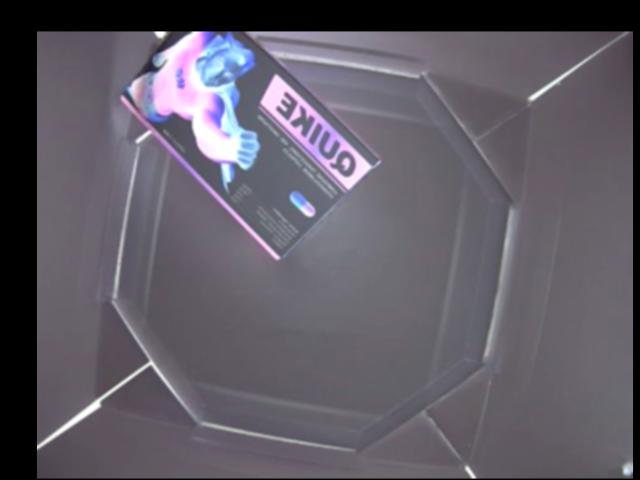Medicine: (114, 32, 383, 260)
